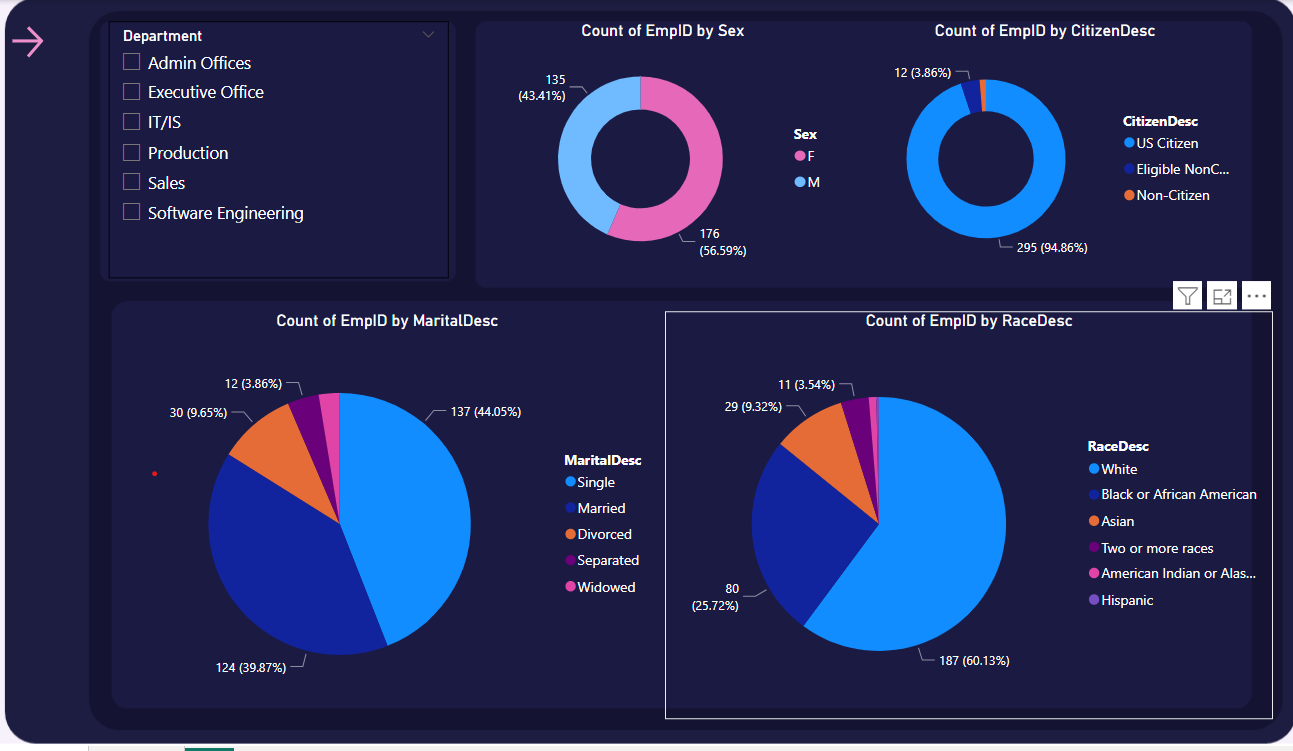

What the dashboard file says about the page in this screenshot:
{"tool":"powerbi","page":{"name":"Page 1","canvas":[1280,720],"ordinal":0},"visuals":[{"type":"donutChart","fields":{"Category":["HRDataset.Sex"],"Y":["CountNonNull(HRDataset.EmpID)"]},"box":[495,20,348.3,248.3],"z":0},{"type":"pieChart","fields":{"Category":["HRDataset.MaritalDesc"],"Y":["CountNonNull(HRDataset.EmpID)"]},"box":[135,300,535,393.3],"z":1},{"type":"donutChart","fields":{"Y":["CountNonNull(HRDataset.EmpID)"],"Category":["HRDataset.CitizenDesc"]},"box":[843.3,20,388.3,248.3],"z":2},{"type":"pieChart","fields":{"Y":["CountNonNull(HRDataset.EmpID)"],"Category":["HRDataset.RaceDesc"]},"box":[670,300,586.7,393.3],"z":3},{"type":"slicer","fields":{"Values":["HRDataset.Department"]},"box":[133.3,20,328.3,248.3],"z":4},{"type":"actionButton","box":[35,20,100,40],"z":5}]}

Visuals, with their boxes on the page's 1280x720 design canvas (x1, y1, x2, y2). These are canvas units, not pixel positions in the 1293x751 screenshot, which may show the page scaled, cropped or inside an application window:
donutChart - HRDataset.Sex x CountNonNull(HRDataset.EmpID): bbox=[495, 20, 843, 268]
pieChart - HRDataset.MaritalDesc x CountNonNull(HRDataset.EmpID): bbox=[135, 300, 670, 693]
donutChart - CountNonNull(HRDataset.EmpID) x HRDataset.CitizenDesc: bbox=[843, 20, 1232, 268]
pieChart - CountNonNull(HRDataset.EmpID) x HRDataset.RaceDesc: bbox=[670, 300, 1257, 693]
slicer - HRDataset.Department: bbox=[133, 20, 462, 268]
actionButton: bbox=[35, 20, 135, 60]
